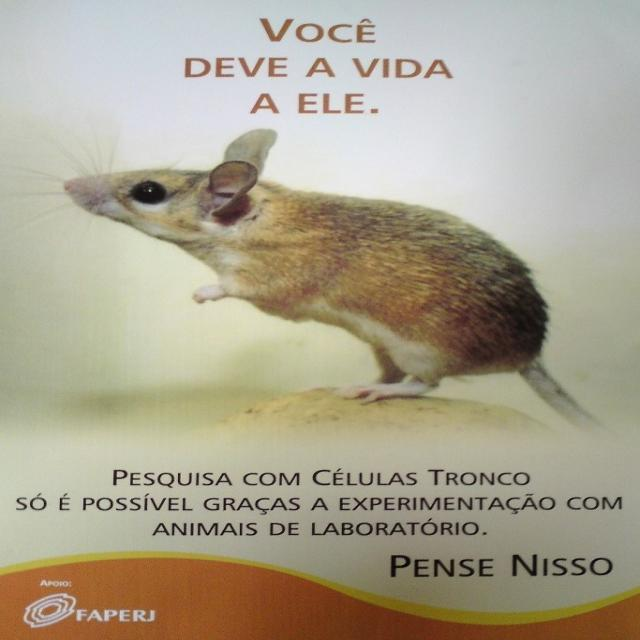rat: (60, 119, 588, 425)
